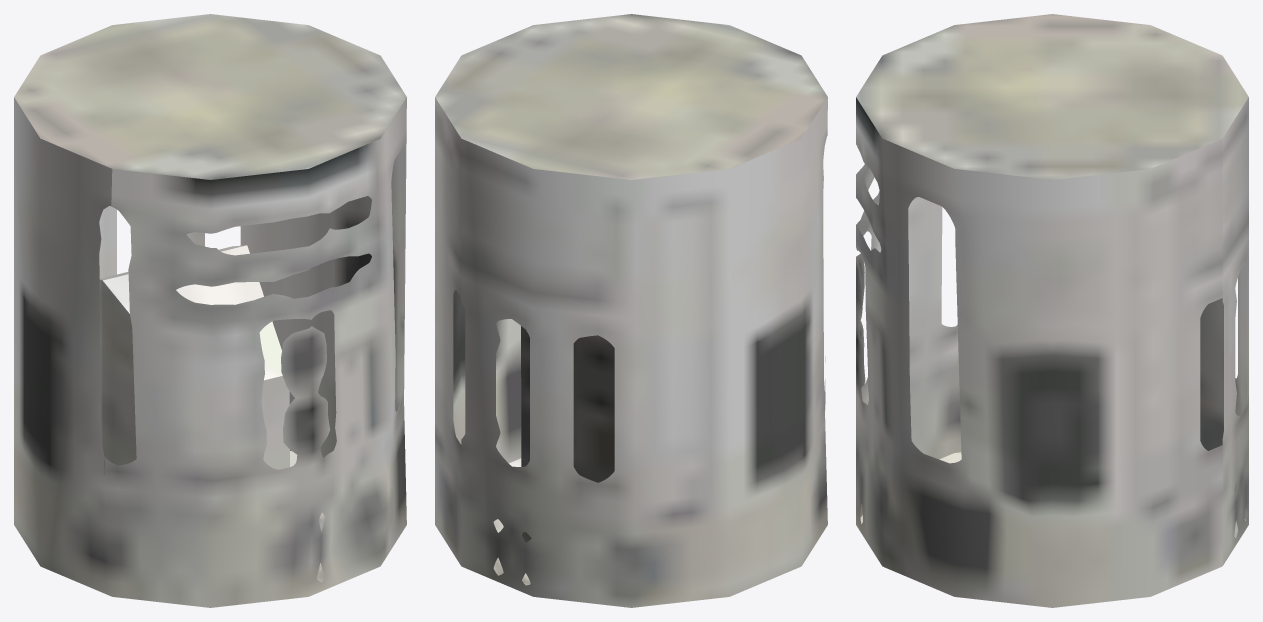
The model's file is poi_r4_torso_l2.fbx.
3 renders of one model, left to right at view 1: azimuth 30°, elevation 25°; view 2: azimuth 150°, elevation 25°; view 3: azimuth 270°, elevation 25°, orthographic.
Visible parts, largest first — view 1: mesh_node; view 2: mesh_node; view 3: mesh_node.
Boxes of the visible parts, <box> form: mesh_node: <box>14,14,406,607</box>; mesh_node: <box>435,14,827,607</box>; mesh_node: <box>856,14,1248,607</box>.
Size of the model in its own units: 0.4403 by 0.5551 by 0.4403.
1 material, 1 textured.
